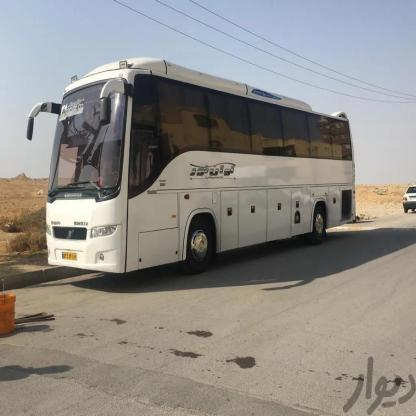Bus: (44, 70, 362, 280)
Car: (403, 179, 416, 225)
